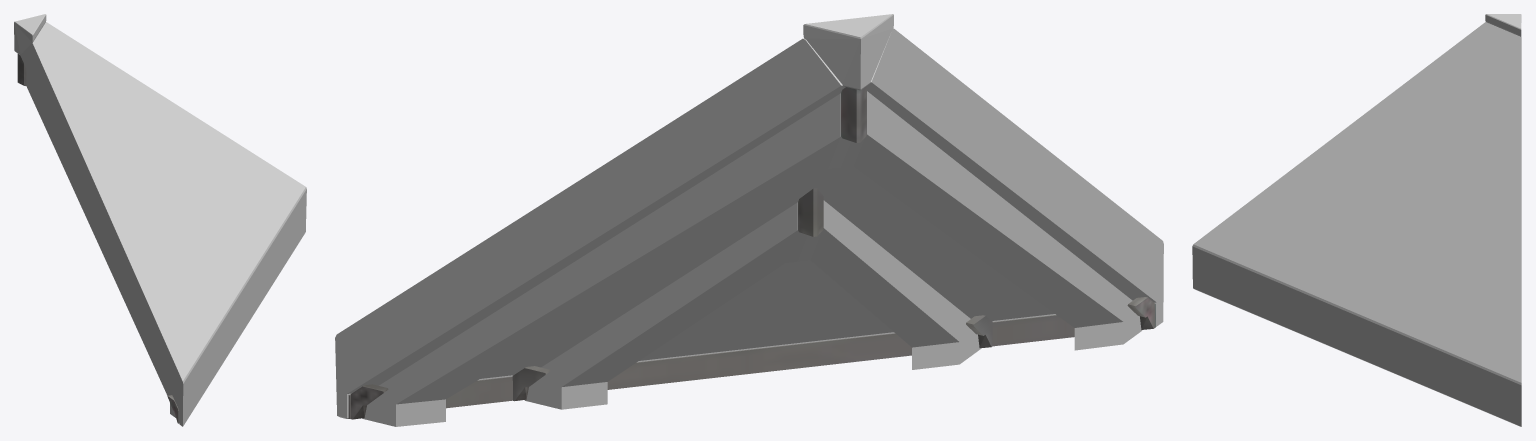
The model's file is SM_SlopeRoofCorner_Glass_ad6f8b.glb.
3 renders of one model, left to right at view 1: azimuth 30°, elevation 25°; view 2: azimuth 150°, elevation 25°; view 3: azimuth 270°, elevation 25°, orthographic. The views are drawn at different scales.
Bounding box in the file's own units: 3.97 × 3.66 × 3.97.
Materials: 2 (1 with a texture image).
